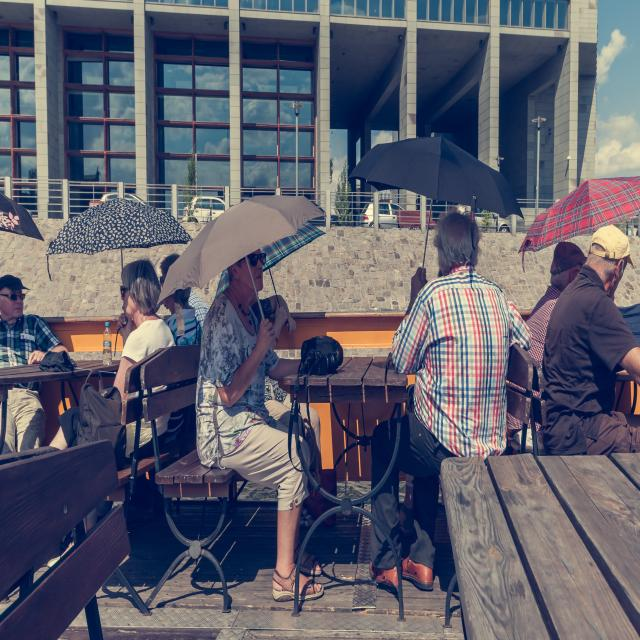body: (364, 202, 537, 601), (194, 247, 326, 603), (198, 248, 324, 534), (48, 255, 177, 469), (48, 258, 177, 472), (542, 223, 640, 456), (507, 240, 588, 450), (0, 273, 71, 455), (400, 267, 442, 542), (188, 262, 212, 325)
